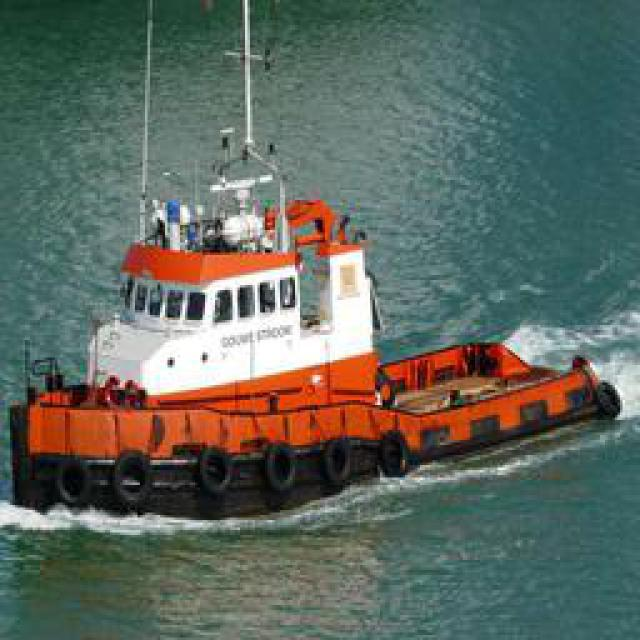Ship: (23, 31, 611, 521)
